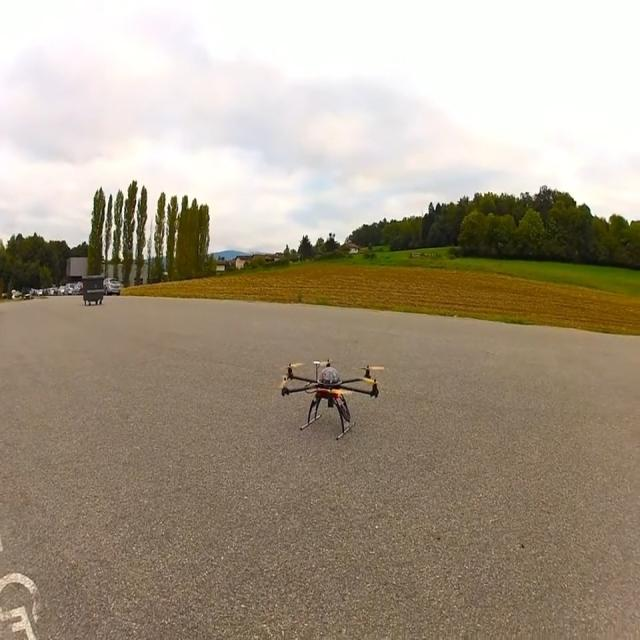drone: (279, 357, 380, 440)
